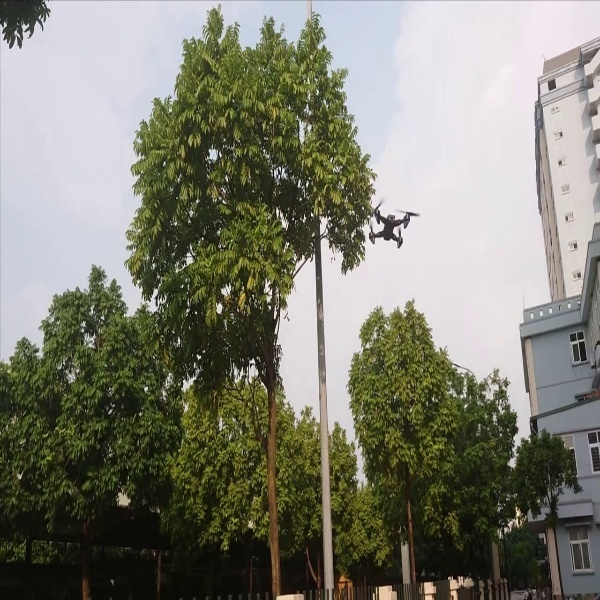drone: (362, 194, 418, 258)
